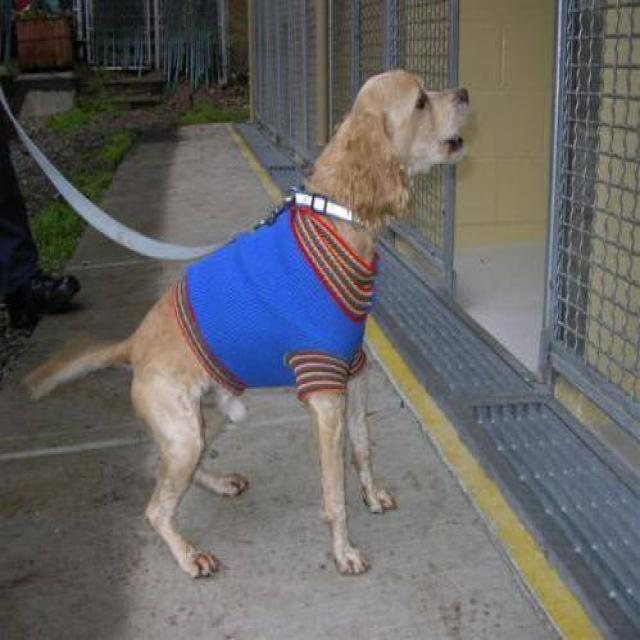dog: (19, 65, 471, 580)
